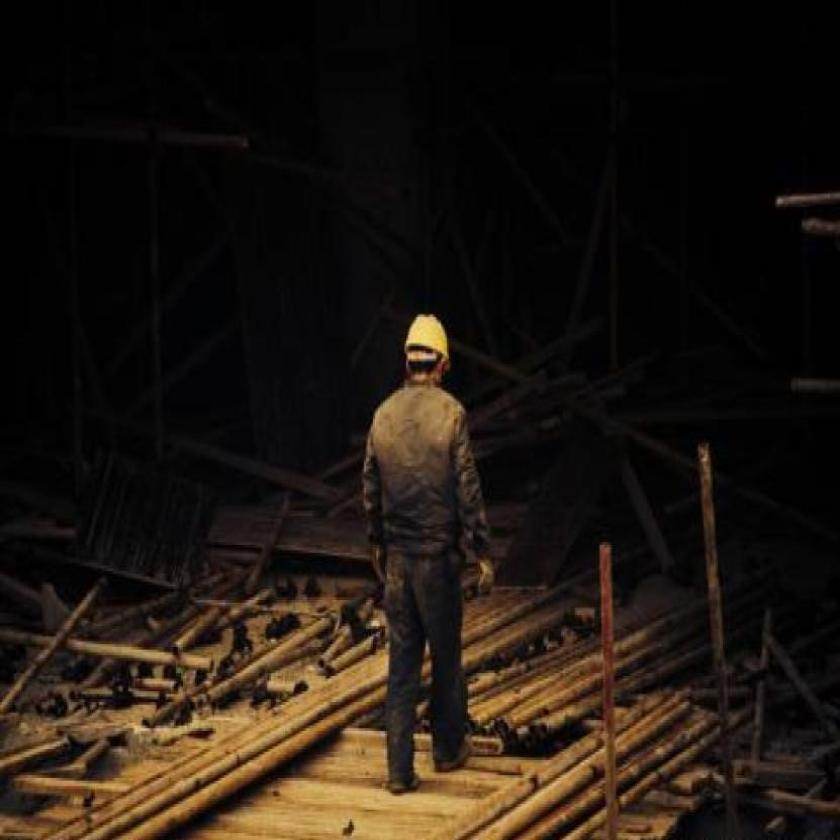Con_casco: (401, 313, 457, 389)
